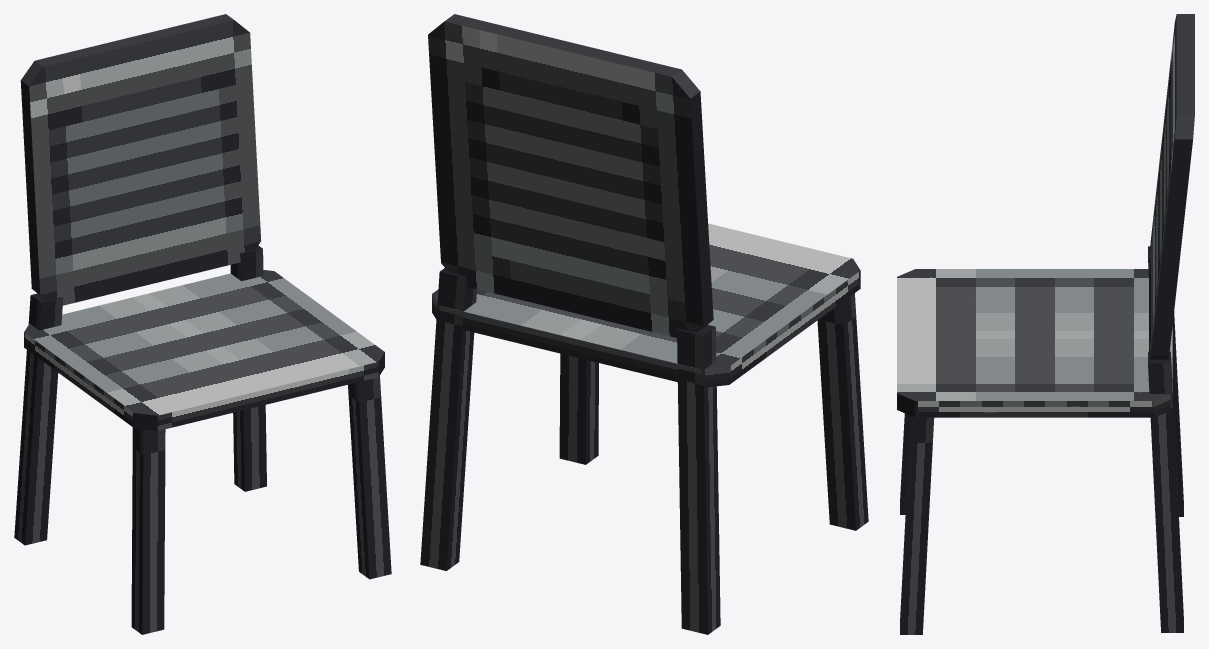
File: metal_chair.glb
The picture shows the model from 3 angles, left to right: view 1: azimuth 30°, elevation 25°; view 2: azimuth 150°, elevation 25°; view 3: azimuth 270°, elevation 25°; orthographic projection. The views are drawn at different scales.
Parts seen in each view (by area): view 1: Metal_Chair; view 2: Metal_Chair; view 3: Metal_Chair.
Boxes of the visible parts, x1,y1,x2,y2 form: Metal_Chair: (14,14,391,634); Metal_Chair: (420,14,868,634); Metal_Chair: (897,14,1194,634).
Bounding box in the file's own units: 0.544 × 0.97 × 0.519.
Materials: 1 (1 with a texture image).
